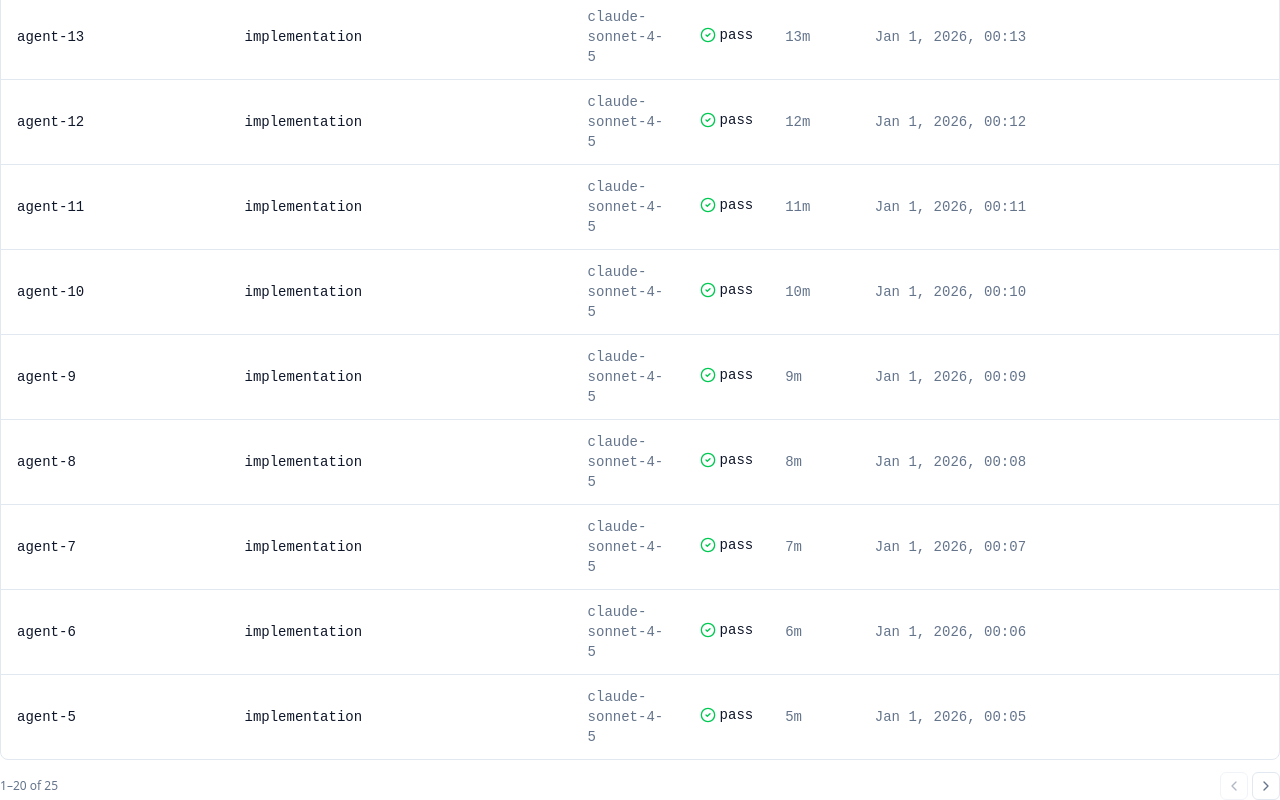
it: CompletedAgentsTable › pagination › navigates to next page when clicking next button
The width and height of the screenshot is (1280, 800).
(page scrolled)
Expected: the text "1–20 of 25" is shown, [0,778,58,794]
Click next button (second button)
Click the 2nd button: x=1266, y=786 [1252,772,1279,799]
(page scrolled)
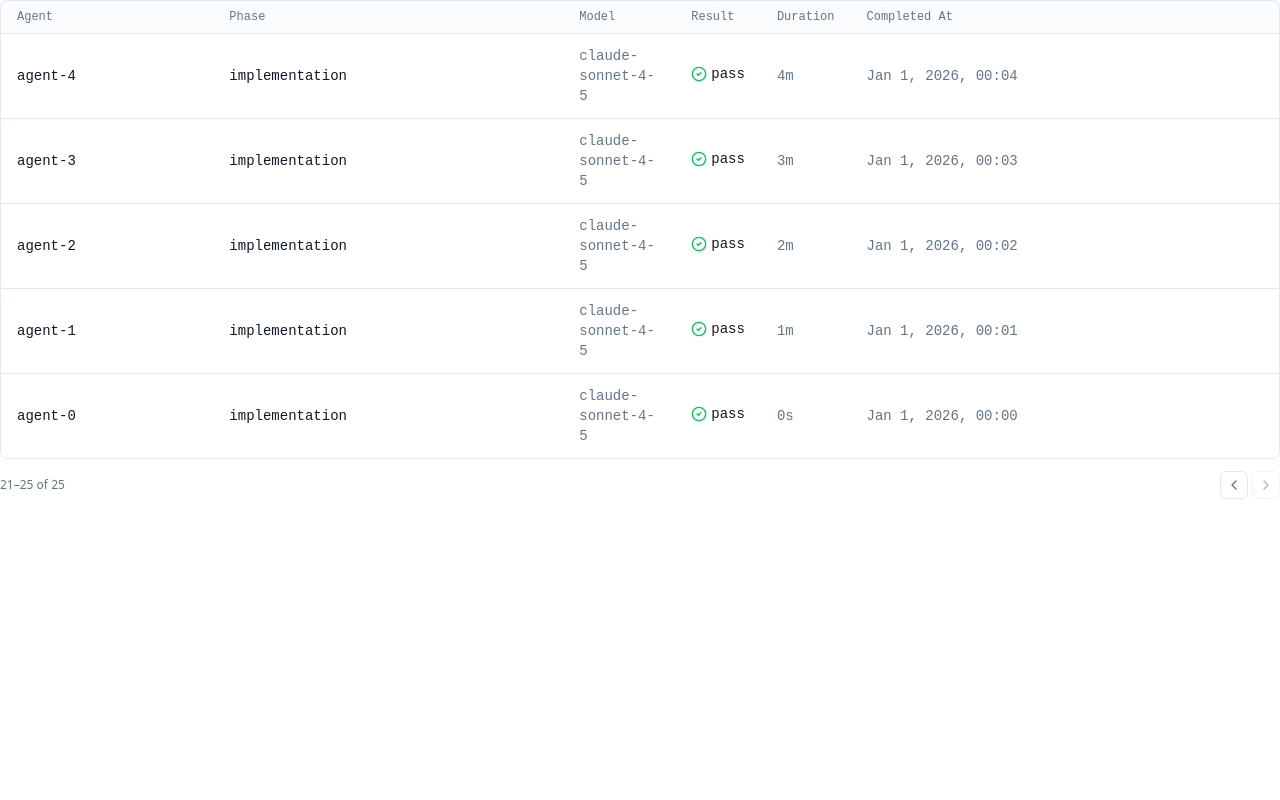
Result: the text "21–25 of 25" is shown at [0,477,65,493]
Result: the number of rows with test id "agent-row" is 5 at [1,34,1279,118]; [1,118,1279,204]; [1,204,1279,288]; [1,288,1279,374]; [1,374,1279,458]
